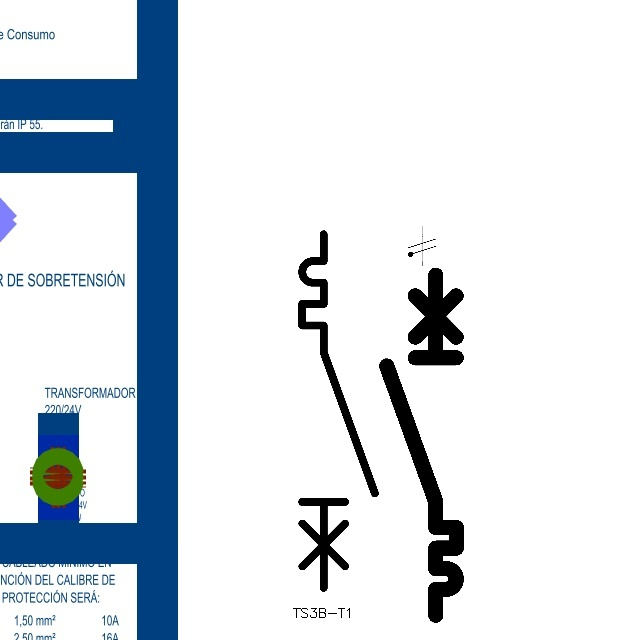interruptor_termomagnetico: (293, 225, 384, 597), (378, 266, 465, 624)
